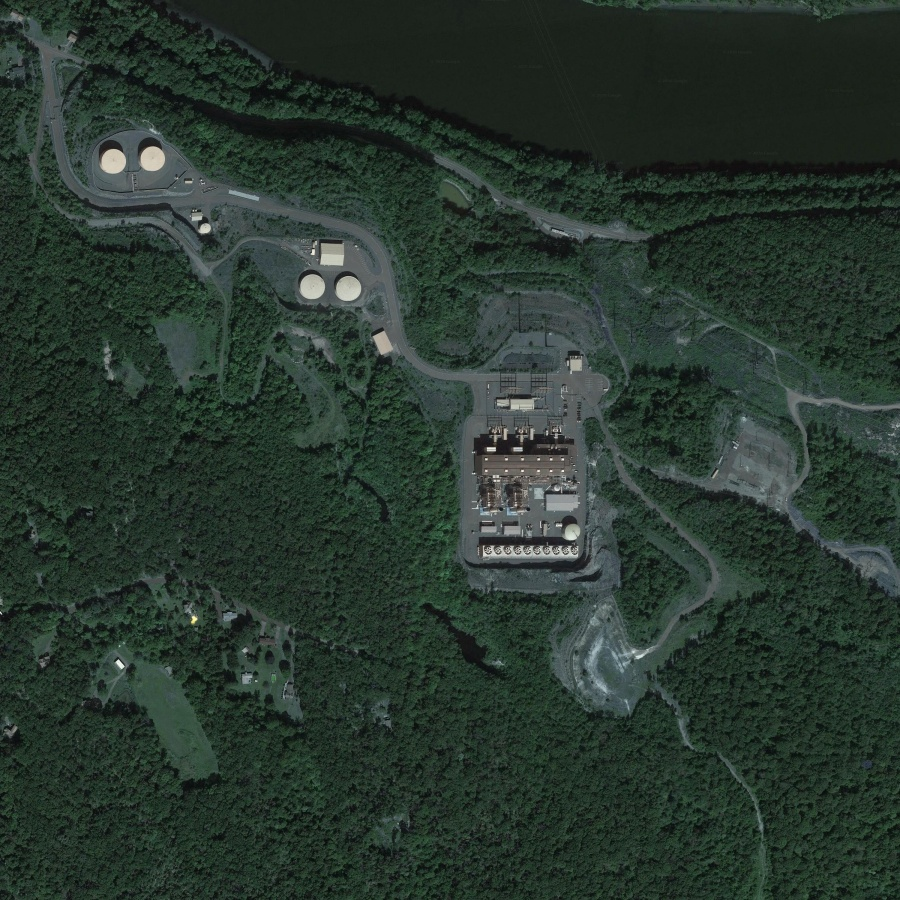PowerPlant: (465, 335, 611, 575)
